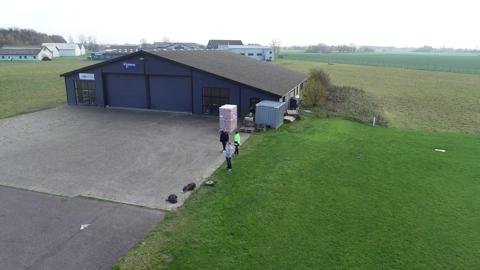RockwoolPallet: (219, 103, 238, 133)
